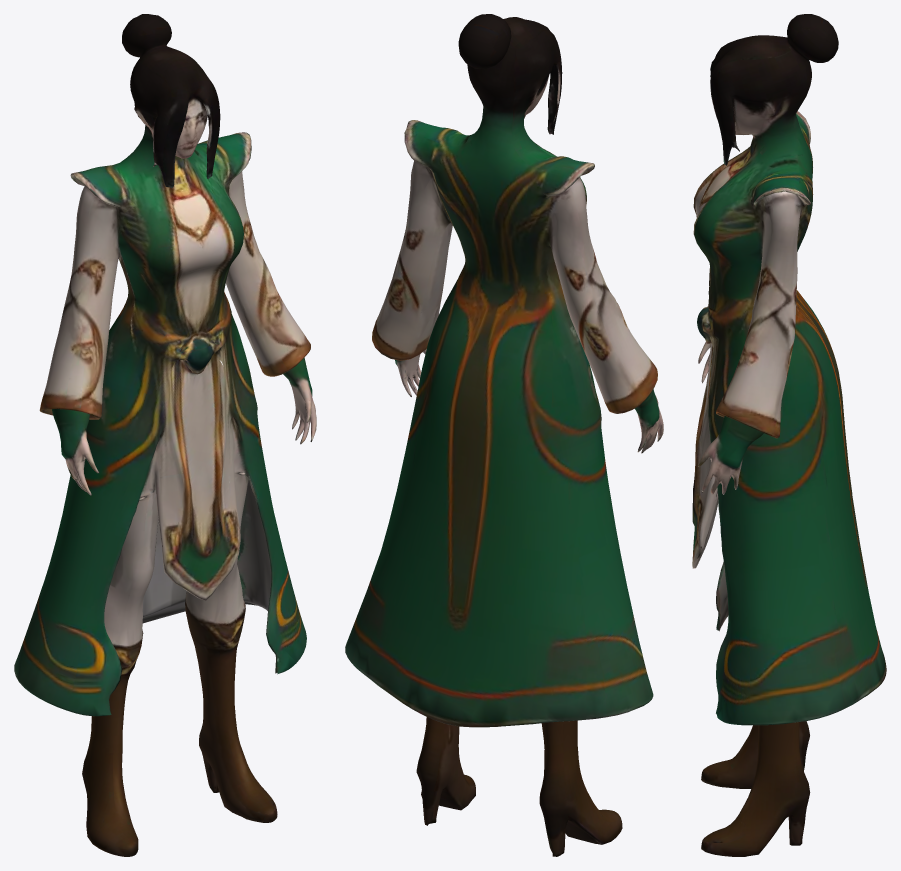
File: syrtis-alturian-female-mage.glb
The picture shows the model from 3 angles, left to right: view 1: azimuth 30°, elevation 25°; view 2: azimuth 150°, elevation 25°; view 3: azimuth 270°, elevation 25°; orthographic projection. The views are drawn at different scales.
Visible parts, largest first — view 1: model; view 2: model; view 3: model.
Boxes of the visible parts, x1,y1,x2,y2 form: model: (14,14,316,856); model: (345,14,663,856); model: (692,14,886,856).
Bounding box in the file's own units: 0.6919 × 1.9 × 0.4193.
Materials: 1 (1 with a texture image).
